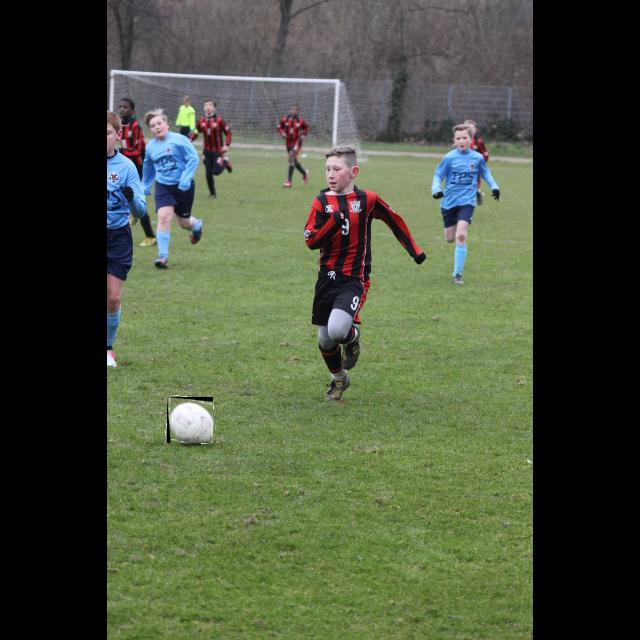Football: (167, 397, 213, 443)
